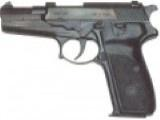gun: (0, 0, 156, 118)
